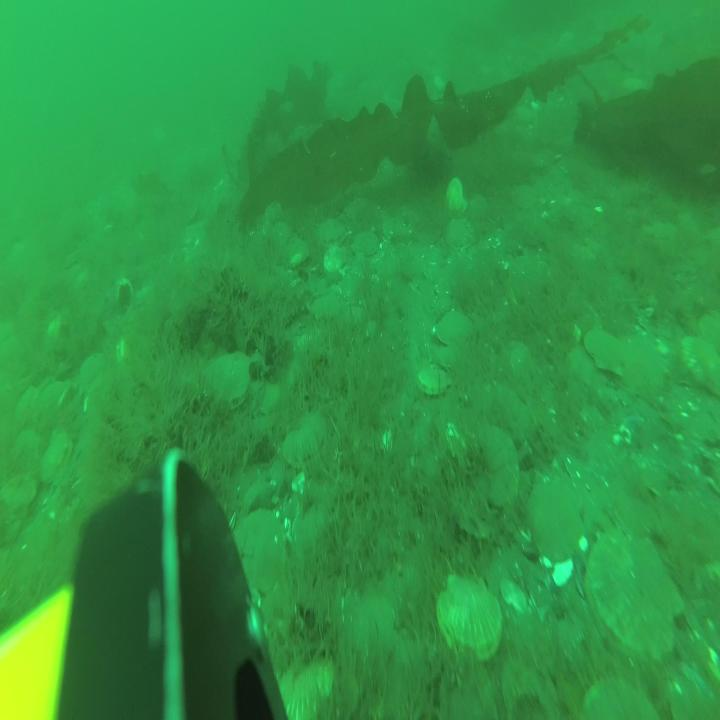holothurian: (278, 297, 308, 326)
scallop: (588, 528, 686, 666), (438, 568, 506, 662), (524, 477, 584, 564), (231, 509, 288, 594), (469, 428, 522, 510), (341, 589, 400, 662), (277, 654, 336, 720), (613, 340, 664, 400), (208, 349, 255, 406), (582, 327, 623, 379), (682, 333, 720, 389), (434, 306, 476, 350), (286, 416, 325, 463), (446, 215, 478, 258), (1, 474, 34, 514), (416, 358, 450, 396), (42, 433, 66, 486), (77, 356, 106, 398), (312, 292, 344, 322), (352, 231, 382, 262), (324, 243, 346, 276), (318, 218, 346, 243), (444, 176, 464, 209)
